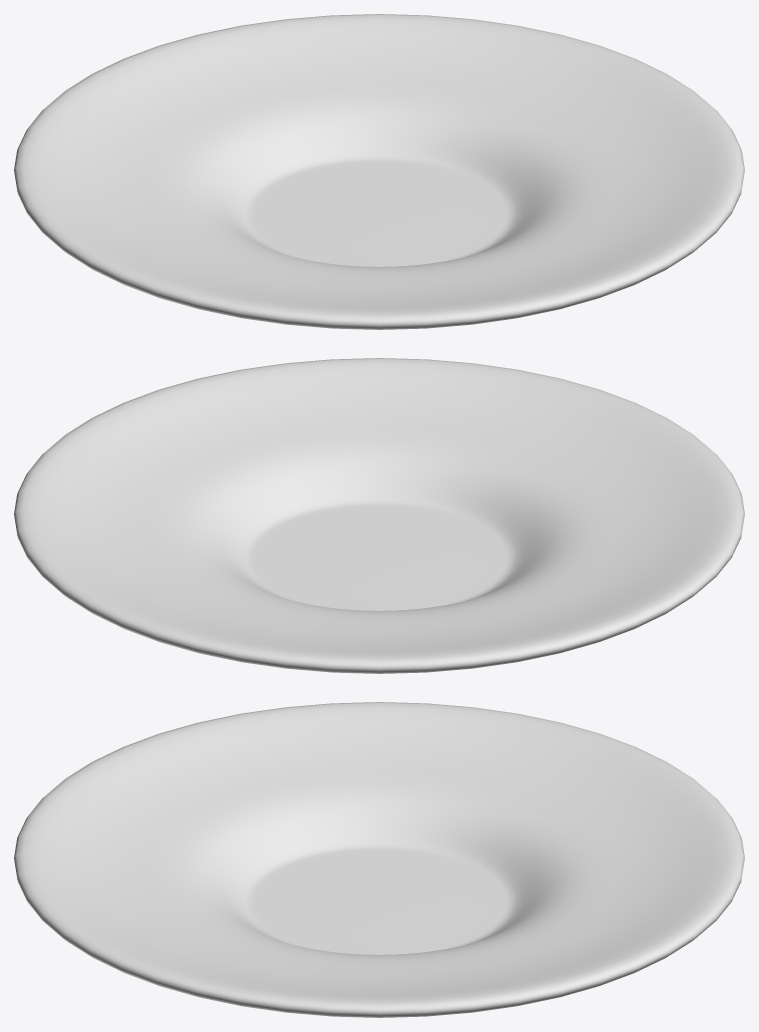
The model's file is cup_of_coffee_plate_gltf.glb.
The picture shows the model from 3 angles, top to bottom: view 1: azimuth 30°, elevation 25°; view 2: azimuth 150°, elevation 25°; view 3: azimuth 270°, elevation 25°; orthographic projection.
Parts seen in each view (by area): view 1: Plate; view 2: Plate; view 3: Plate.
Boxes of the visible parts, x1,y1,x2,y2 form: Plate: (14, 14, 744, 329); Plate: (14, 358, 744, 673); Plate: (14, 702, 744, 1017).
Bounding box in the file's own units: 2.07 × 0.2512 × 2.07.
Materials: 1 (1 with a texture image).
